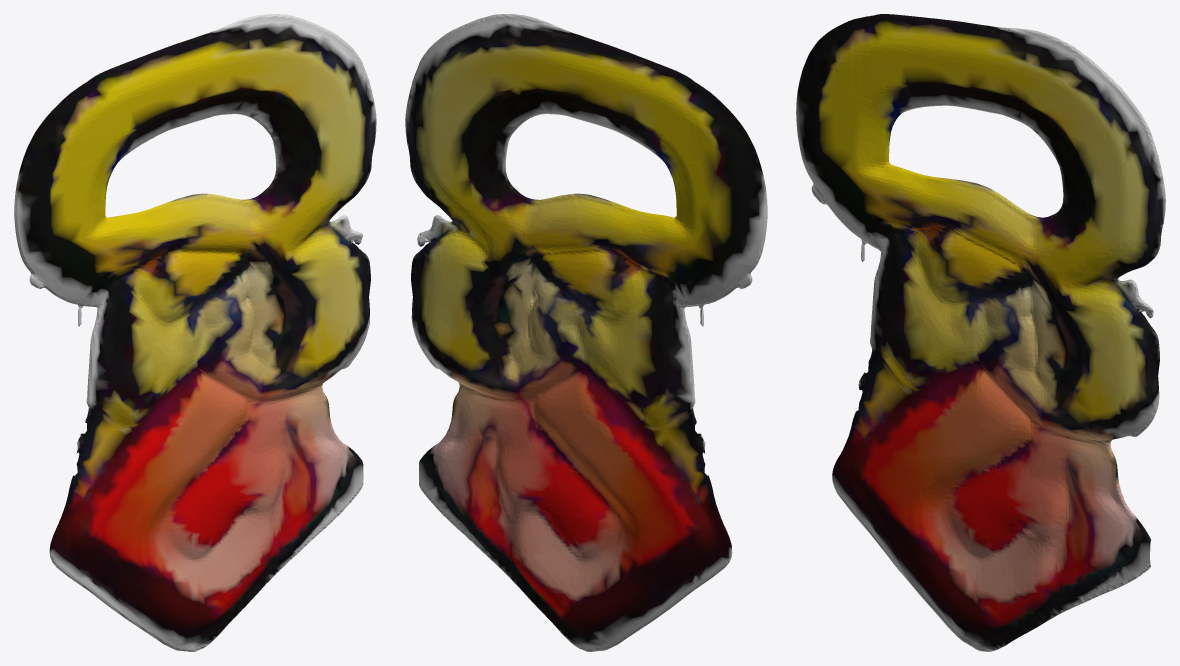
File: amulet_power.glb
3 renders of one model, left to right at view 1: azimuth 30°, elevation 25°; view 2: azimuth 150°, elevation 25°; view 3: azimuth 330°, elevation 25°, orthographic. The views are drawn at different scales.
Parts seen in each view (by area): view 1: geometry_0; view 2: geometry_0; view 3: geometry_0.
Part boxes in pixels (box(x1,y1,x2,y2)): geometry_0: box(14, 14, 376, 651); geometry_0: box(405, 14, 767, 651); geometry_0: box(796, 14, 1165, 651).
Bounding box in the file's own units: 0.4375 × 0.717 × 0.0293.
